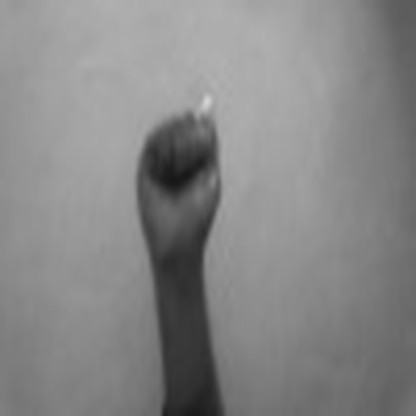a: (125, 88, 236, 252)
